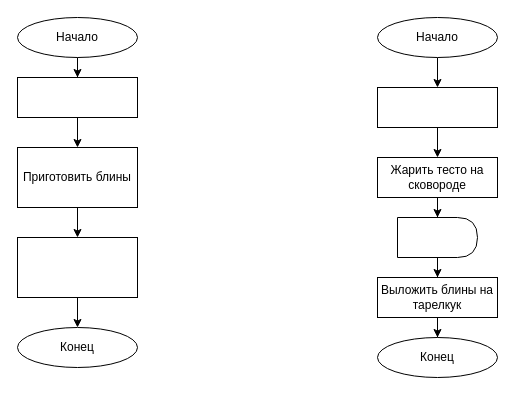
The diagram is 515 pixels wide and 395 high, and some of its shapes have lost their labels. Here are the shapes that lost their labels. From the top down, the centre of each, then its label:
[77,97]: Информировать об услугах
[437,107]: Приготовить тесто
[437,237]: 15 мин
[77,267]: Обслужить посетителей
